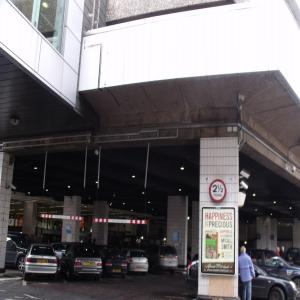Vehicle-registration-plate: (38, 260, 49, 264), (86, 263, 96, 267), (114, 270, 122, 274)
